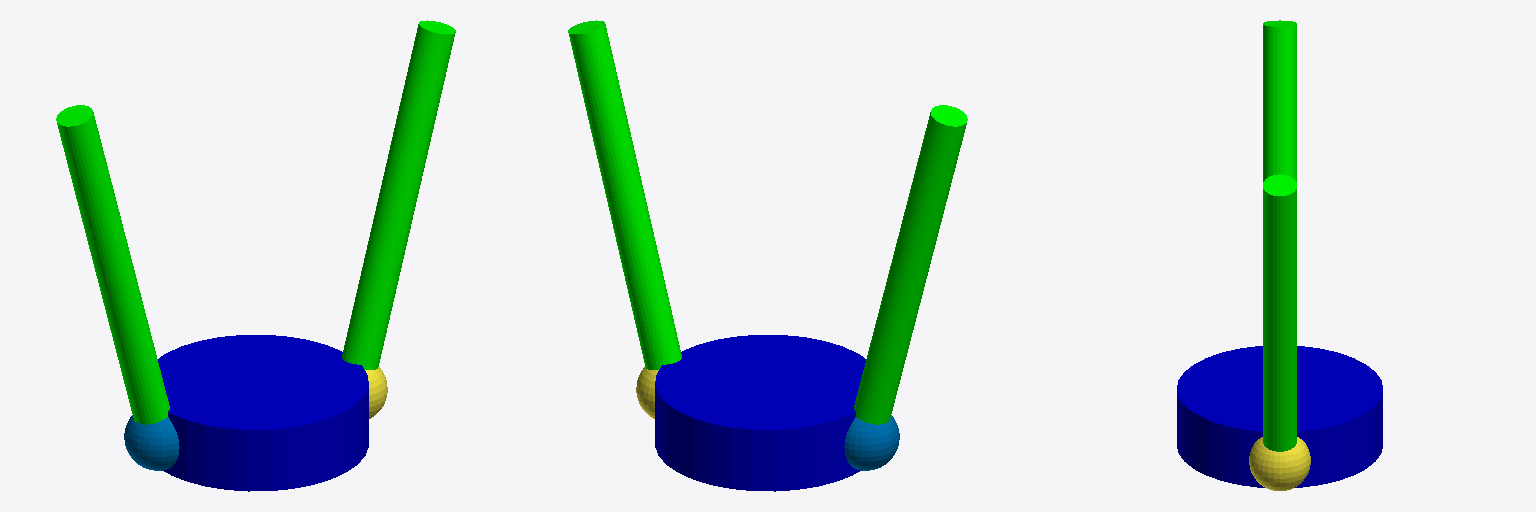
robot.urdf — gripper_2f_1j:
<?xml version='1.0' encoding='UTF-8'?>
<robot name="gripper_2f_1j">
  <link name="palm">
    <inertial>
      <origin xyz="0.0 0.0 0.0" rpy="0.0 -0.0 0.0"/>
      <mass value="1.0"/>
      <inertia ixx="1.0" ixy="0.0" ixz="0.0" iyy="1.0" iyz="0.0" izz="1.0"/>
    </inertial>
    <visual>
      <geometry>
        <cylinder radius="0.05" length="0.03"/>
      </geometry>
      <material name="blue"/>
      <origin xyz="0.0 0.0 0.0" rpy="0.0 -0.0 0.0"/>
    </visual>
    <collision>
      <geometry>
        <cylinder radius="0.05" length="0.03"/>
      </geometry>
      <origin xyz="0.0 0.0 0.0" rpy="0.0 0.0 0.0"/>
    </collision>
  </link>
  <link name="f11">
    <inertial>
      <origin xyz="0.0 0.0 0.0" rpy="0.0 -0.0 0.0"/>
      <mass value="1.0"/>
      <inertia ixx="1.0" ixy="0.0" ixz="0.0" iyy="1.0" iyz="0.0" izz="1.0"/>
    </inertial>
    <visual>
      <geometry>
        <cylinder radius="0.008428393740721943" length="0.1718863642225534"/>
      </geometry>
      <material name="green"/>
      <origin xyz="0.0 0.0 0.0859431821112767" rpy="0.0 -0.0 0.0"/>
    </visual>
    <collision>
      <geometry>
        <cylinder radius="0.008428393740721943" length="0.1718863642225534"/>
      </geometry>
      <origin xyz="0.0 0.0 0.05" rpy="0.0 0.0 0.0"/>
    </collision>
  </link>
  <link name="f21">
    <inertial>
      <origin xyz="0.0 0.0 0.0" rpy="0.0 -0.0 0.0"/>
      <mass value="1.0"/>
      <inertia ixx="1.0" ixy="0.0" ixz="0.0" iyy="1.0" iyz="0.0" izz="1.0"/>
    </inertial>
    <visual>
      <geometry>
        <cylinder radius="0.008428393740721943" length="0.1718863642225534"/>
      </geometry>
      <material name="green"/>
      <origin xyz="0.0 0.0 0.0859431821112767" rpy="0.0 -0.0 0.0"/>
    </visual>
    <collision>
      <geometry>
        <cylinder radius="0.008428393740721943" length="0.1718863642225534"/>
      </geometry>
      <origin xyz="0.0 0.0 0.05" rpy="0.0 0.0 0.0"/>
    </collision>
  </link>
  <link name="f11_base">
    <inertial>
      <origin xyz="0.0 0.0 0.0" rpy="0.0 -0.0 0.0"/>
      <mass value="1.0"/>
      <inertia ixx="1.0" ixy="0.0" ixz="0.0" iyy="1.0" iyz="0.0" izz="1.0"/>
    </inertial>
    <visual>
      <geometry>
        <sphere radius="0.015"/>
      </geometry>
      <origin xyz="0.0 0.0 0.0" rpy="0.0 -0.0 0.0"/>
    </visual>
  </link>
  <link name="f21_base">
    <inertial>
      <origin xyz="0.0 0.0 0.0" rpy="0.0 -0.0 0.0"/>
      <mass value="1.0"/>
      <inertia ixx="1.0" ixy="0.0" ixz="0.0" iyy="1.0" iyz="0.0" izz="1.0"/>
    </inertial>
    <visual>
      <geometry>
        <sphere radius="0.015"/>
      </geometry>
      <origin xyz="0.0 0.0 0.0" rpy="0.0 -0.0 0.0"/>
    </visual>
  </link>
  <joint name="f11_joint" type="revolute">
    <dynamics damping="100.0" friction="1.0"/>
    <limit effort="30.0" velocity="2.0" lower="-0.6" upper="0.25"/>
    <parent link="f11_base"/>
    <child link="f11"/>
    <axis xyz="0. 1. 0."/>
    <origin xyz="0.0 0.0 0.0" rpy="0.0 0.25 0.0"/>
  </joint>
  <joint name="f21_joint" type="revolute">
    <dynamics damping="100.0" friction="1.0"/>
    <limit effort="30.0" velocity="2.0" lower="-0.6" upper="0.25"/>
    <parent link="f21_base"/>
    <child link="f21"/>
    <axis xyz=" 0. -1.  0."/>
    <origin xyz="0.0 0.0 0.0" rpy="0.0 -0.25 0.0"/>
  </joint>
  <joint name="f11_base_joint" type="fixed">
    <parent link="palm"/>
    <child link="f11_base"/>
    <axis xyz="1. 0. 0."/>
    <origin xyz="0.05 0.0 0.0" rpy="0.0 0.0 0.0"/>
  </joint>
  <joint name="f21_base_joint" type="fixed">
    <parent link="palm"/>
    <child link="f21_base"/>
    <axis xyz="1. 0. 0."/>
    <origin xyz="-0.05 -0.0 0.0" rpy="0.0 0.0 0.0"/>
  </joint>
  <material name="blue">
    <color rgba="0.  0.  0.8 1. "/>
  </material>
  <material name="green">
    <color rgba="0. 1. 0. 1."/>
  </material>
</robot>

--- Facts derived from the render (not from the file) ---
Views: 3 orthographic renders of the robot side by side, from view 1: azimuth 30°, elevation 25°; view 2: azimuth 150°, elevation 25°; view 3: azimuth 270°, elevation 25°.
Robot: gripper_2f_1j — 5 links, 4 joints (2 revolute, 2 fixed); root link palm; default pose: every joint at zero.
Visible links, largest first — view 1: palm, f11, f21, f21_base, f11_base; view 2: palm, f11, f21, f21_base, f11_base; view 3: palm, f11, f21, f11_base.
Link boxes in pixels (x1,y1,x2,y2): palm: [158, 335, 368, 491]; f11: [342, 20, 455, 369]; f21: [56, 105, 169, 424]; f21_base: [124, 415, 179, 470]; f11_base: [365, 367, 387, 418]; palm: [655, 335, 865, 491]; f11: [568, 20, 681, 369]; f21: [854, 105, 967, 424]; f21_base: [844, 415, 899, 470]; f11_base: [636, 367, 658, 418]; palm: [1177, 346, 1382, 487]; f11: [1263, 174, 1296, 451]; f21: [1263, 20, 1296, 181]; f11_base: [1249, 437, 1310, 490].
Bounding box of the posed robot: 0.2014 × 0.1 × 0.1836 m (x, y, z).
Geometry: primitives only (box / cylinder / sphere), no mesh files.